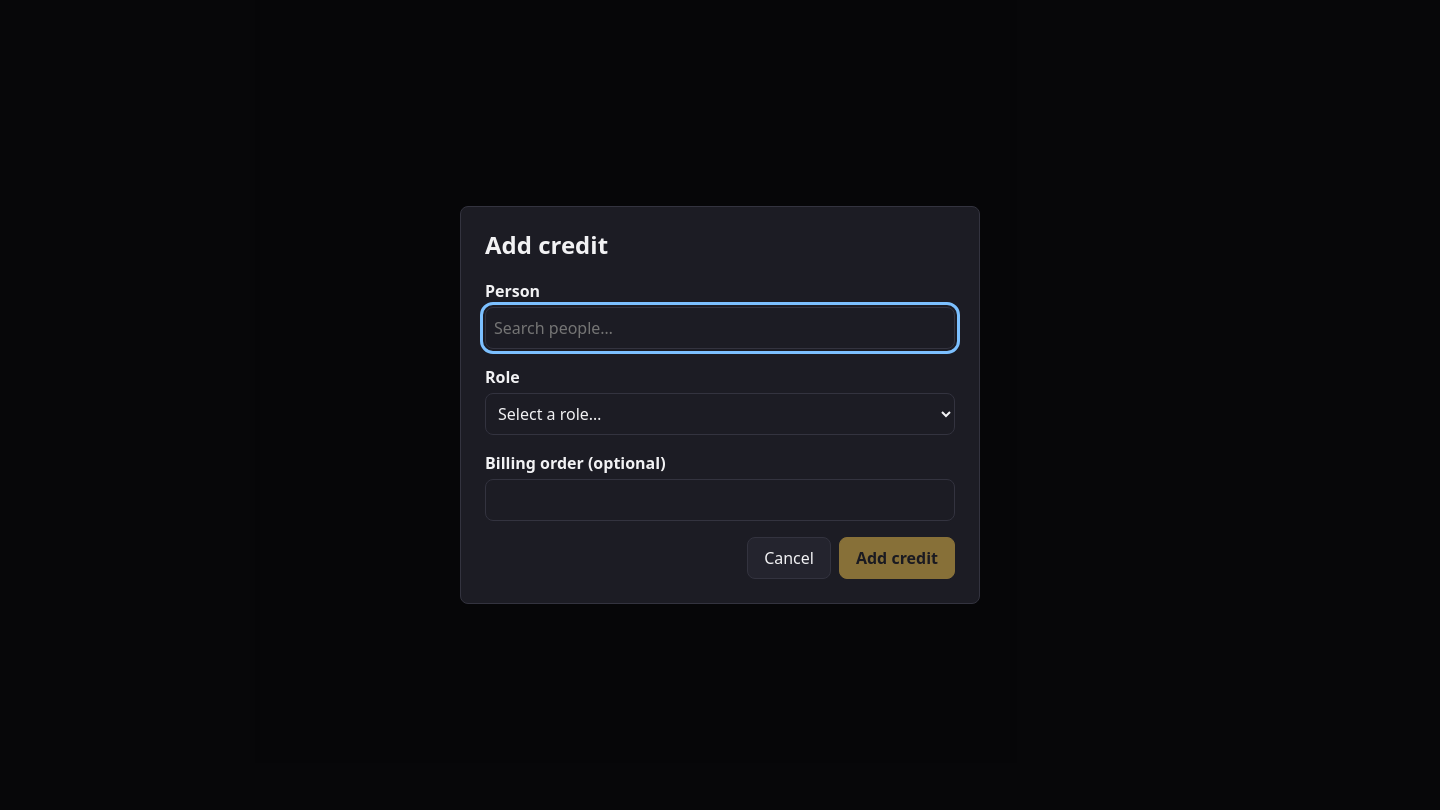
Scenario: CreditDialog › CREW roles do not require a character name
Type "Jane" into the dropdown labelled "Person" at (720, 328), box [485,307,955,349]
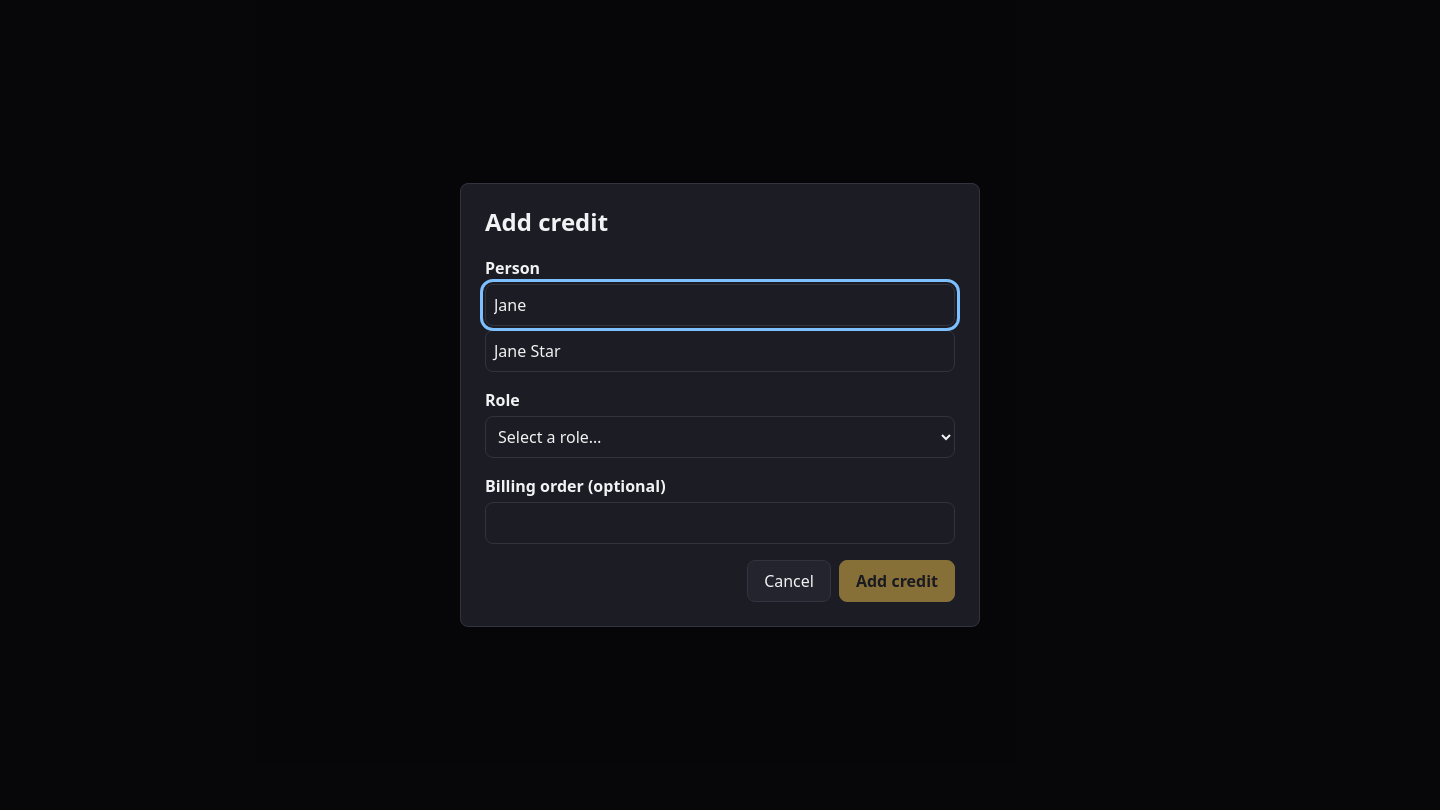
Click the option "Jane Star" at (527, 351), box [494,340,561,362]
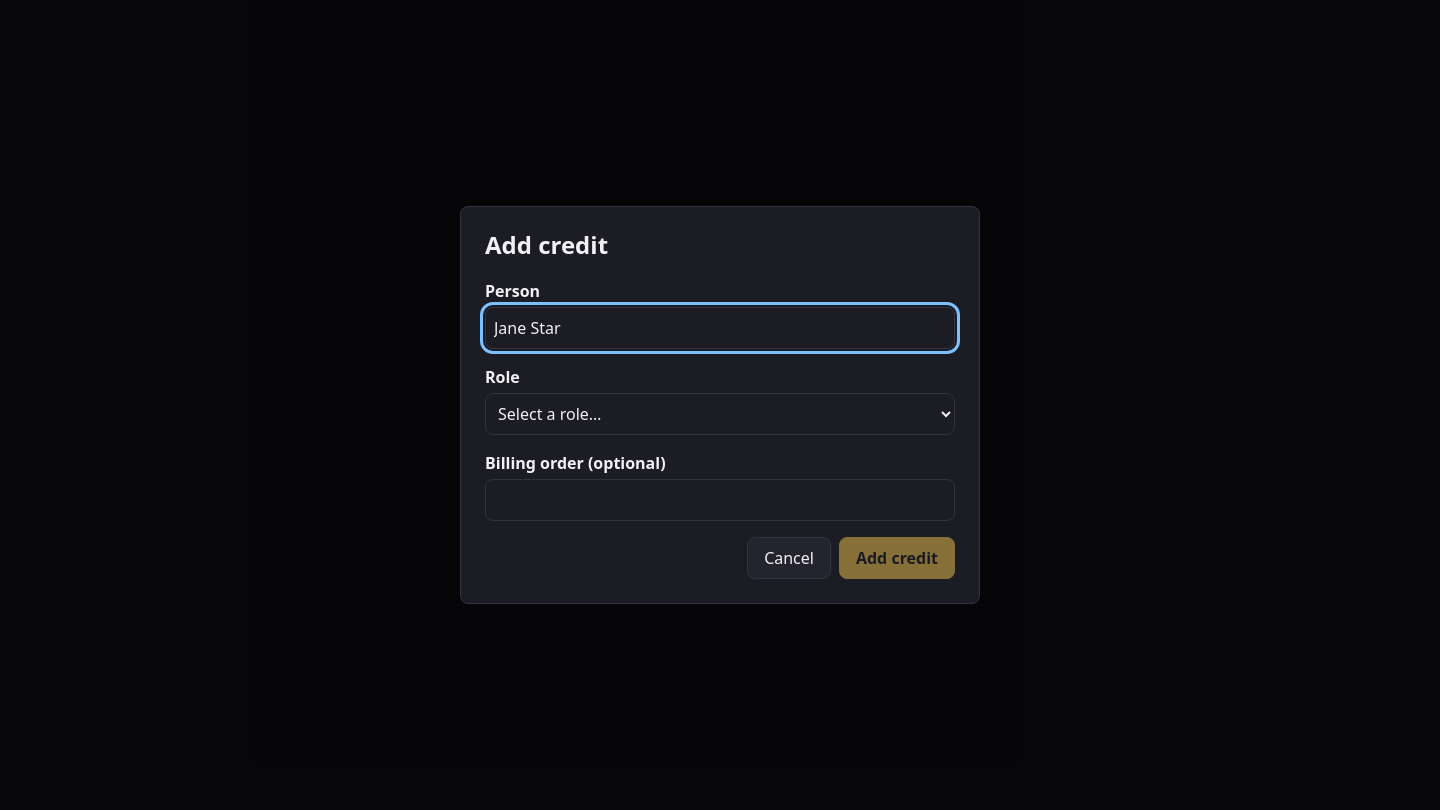
Select "Director (CREW)" in the dropdown labelled "Role" at (720, 414), box [485,393,955,435]
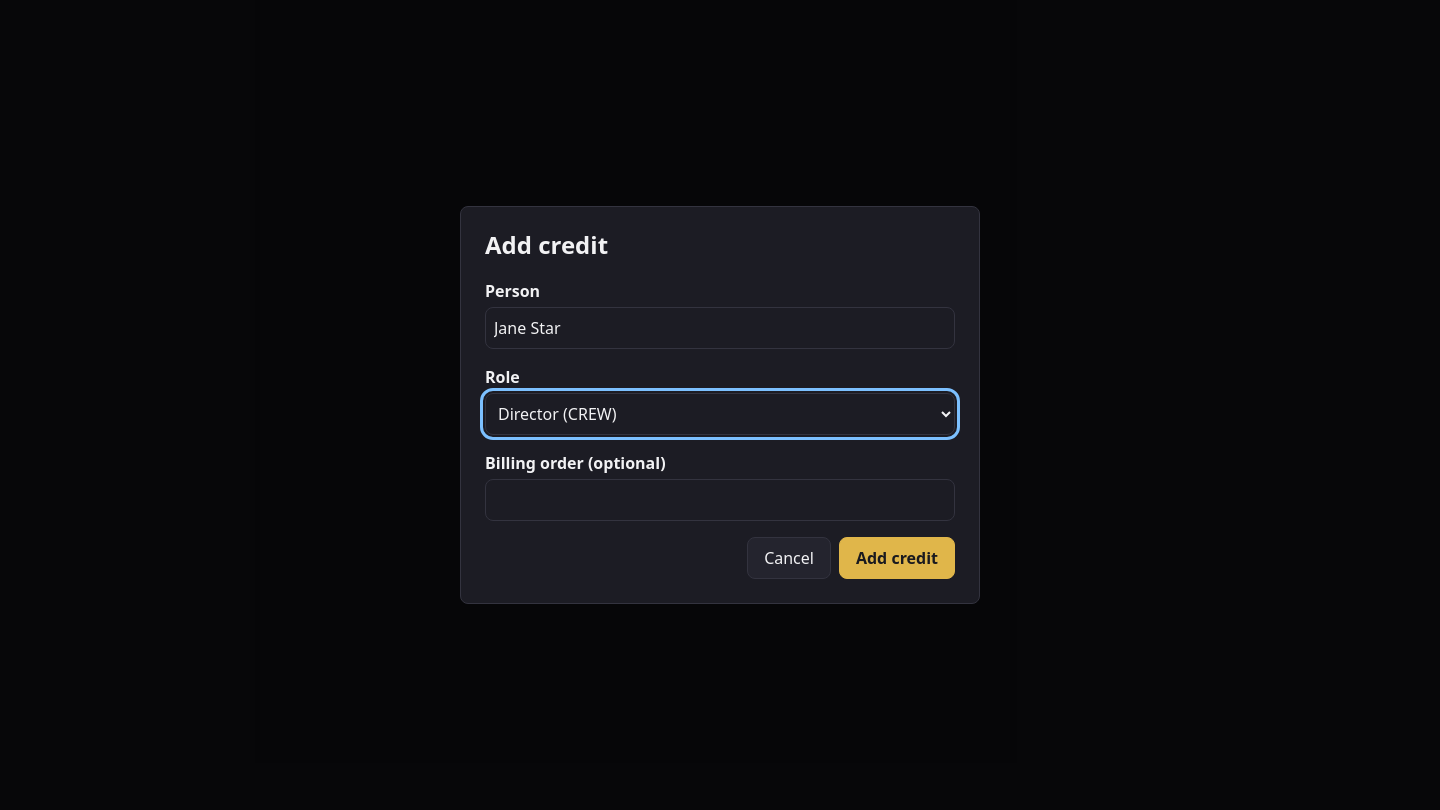
Check: the button "Add credit" is enabled, box [839,537,955,579]
